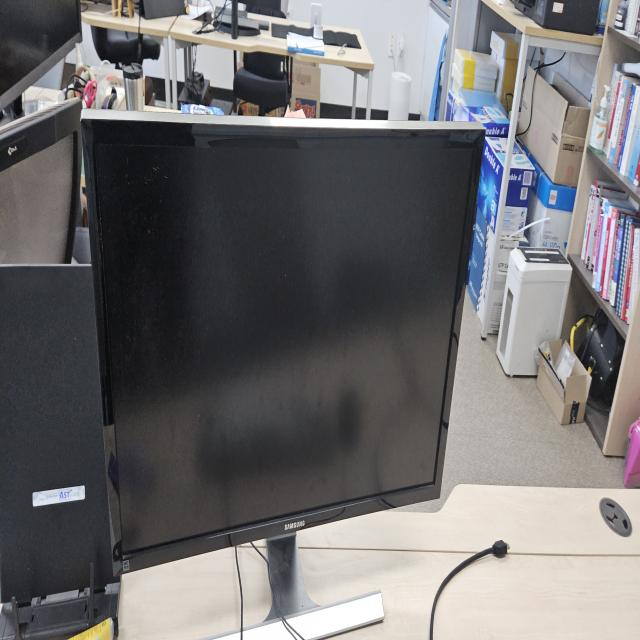Monitor: (79, 101, 486, 628)
